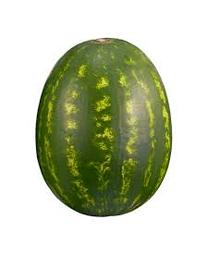watermelon: (35, 39, 174, 219)
